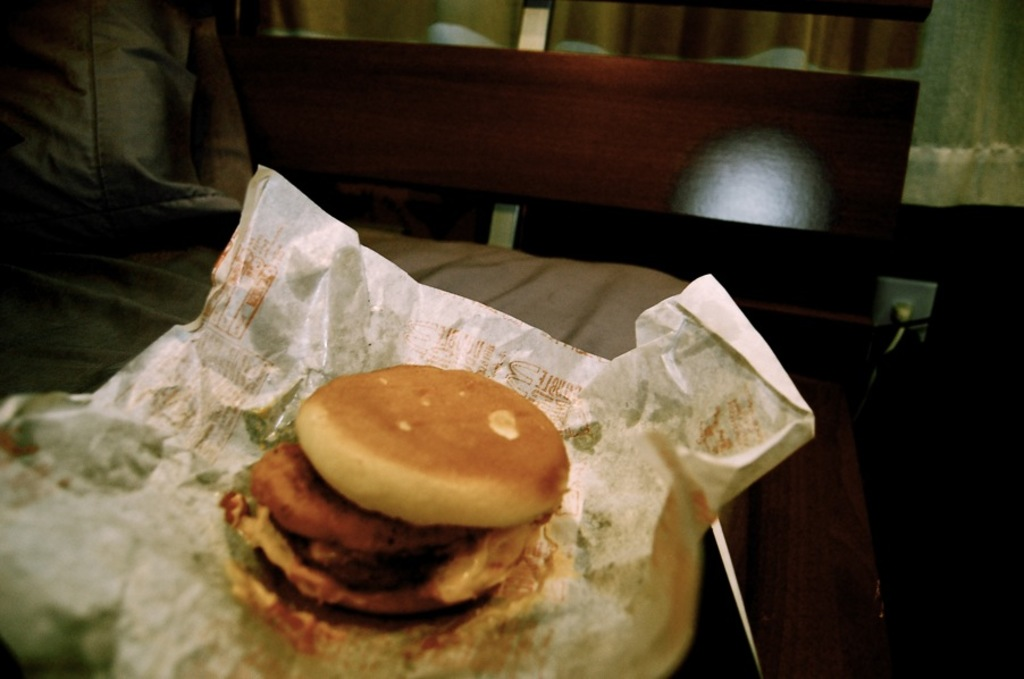Hamburger: (220, 358, 568, 664)
